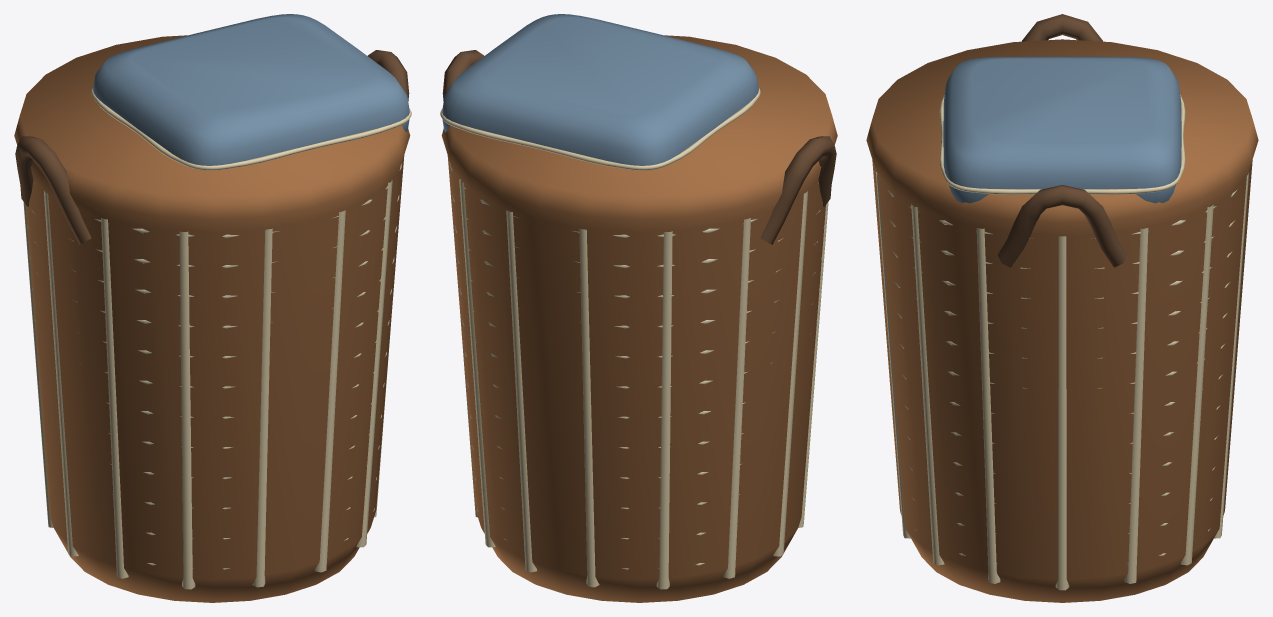
Rendered from hamper.glb.
3 views of the same model, side by side, from view 1: azimuth 30°, elevation 25°; view 2: azimuth 150°, elevation 25°; view 3: azimuth 270°, elevation 25° (orthographic).
Parts seen in each view (by area): view 1: House07_hamper; view 2: House07_hamper; view 3: House07_hamper.
Part boxes in pixels (x1,y1,x2,y2): House07_hamper: (14, 14, 411, 602); House07_hamper: (440, 14, 837, 602); House07_hamper: (866, 14, 1258, 602).
Bounding box in the file's own units: 0.7569 × 0.905 × 0.7.
